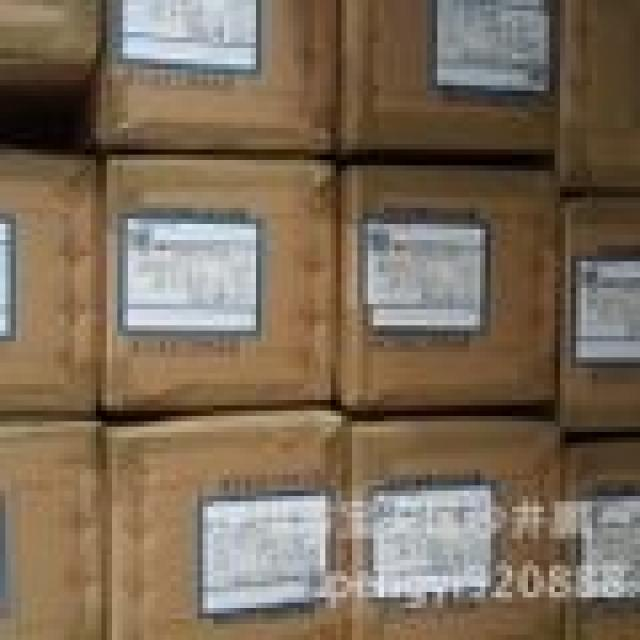box: (100, 158, 336, 411), (106, 411, 352, 635), (332, 167, 555, 413), (346, 412, 560, 635), (92, 3, 340, 156), (339, 1, 559, 158), (0, 145, 103, 421), (0, 419, 107, 635), (556, 192, 635, 432), (557, 0, 635, 195), (564, 437, 635, 635), (0, 0, 99, 128)
